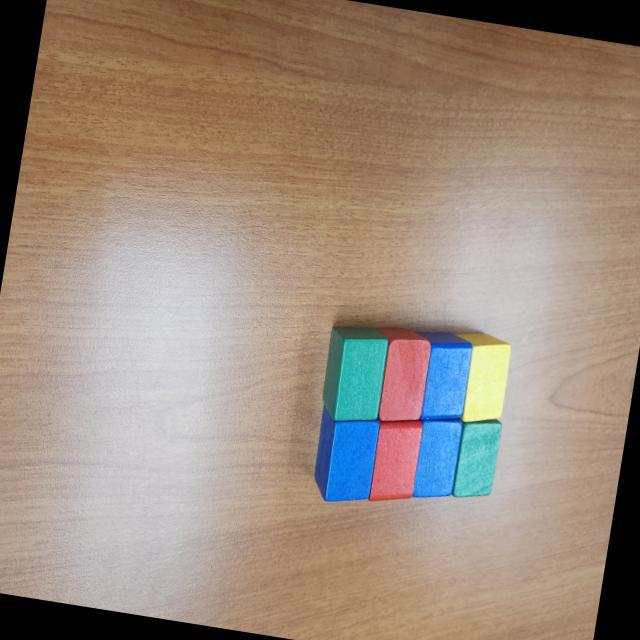blue: (308, 406, 383, 508), (400, 327, 474, 428), (410, 413, 466, 504)
green: (317, 320, 395, 428), (450, 412, 504, 504)
red: (361, 324, 433, 428), (367, 414, 425, 508)
yellow: (446, 328, 514, 426)
